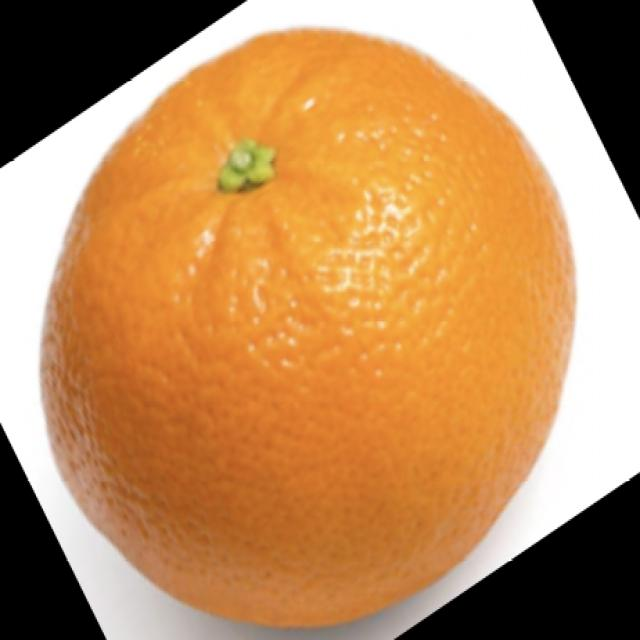fresh: (32, 18, 592, 637)
